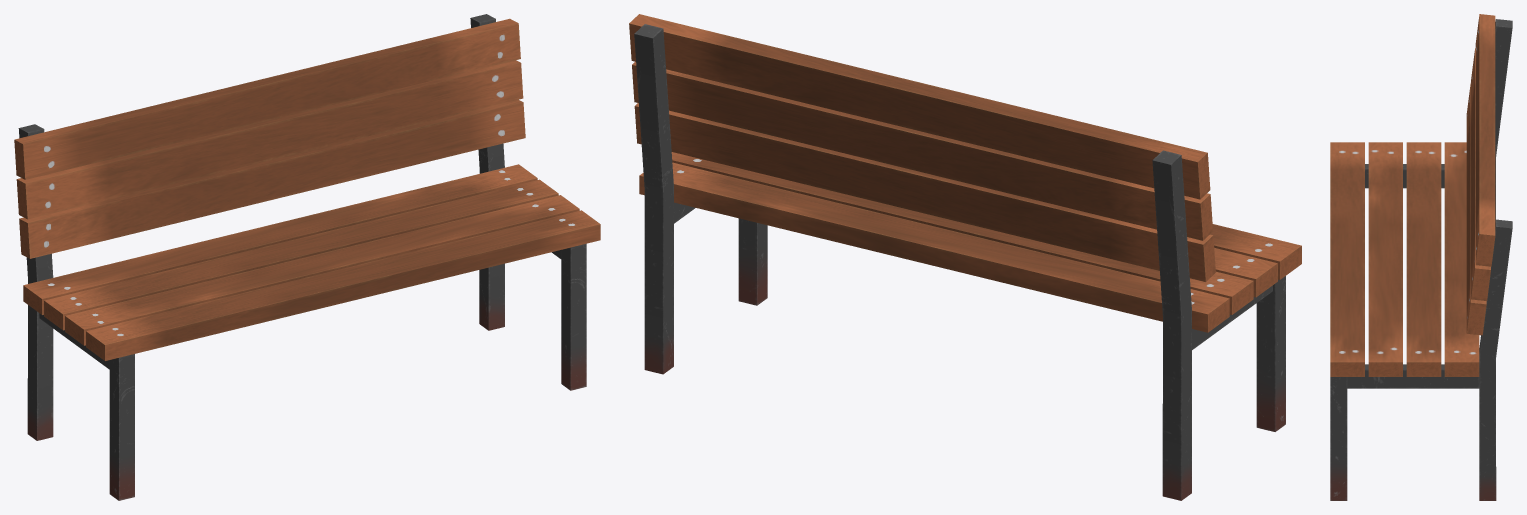
Rendered from church_bench.glb.
The picture shows the model from 3 angles, left to right: view 1: azimuth 30°, elevation 25°; view 2: azimuth 150°, elevation 25°; view 3: azimuth 270°, elevation 25°; orthographic projection. The views are drawn at different scales.
Visible parts, largest first — view 1: Bench; view 2: Bench; view 3: Bench.
Boxes of the visible parts, <box> form: Bench: <box>14,14,600,500</box>; Bench: <box>629,14,1301,500</box>; Bench: <box>1330,14,1512,500</box>.
Bounding box in the file's own units: 1.75 × 1.02 × 0.6124.
1 material, 1 textured.
